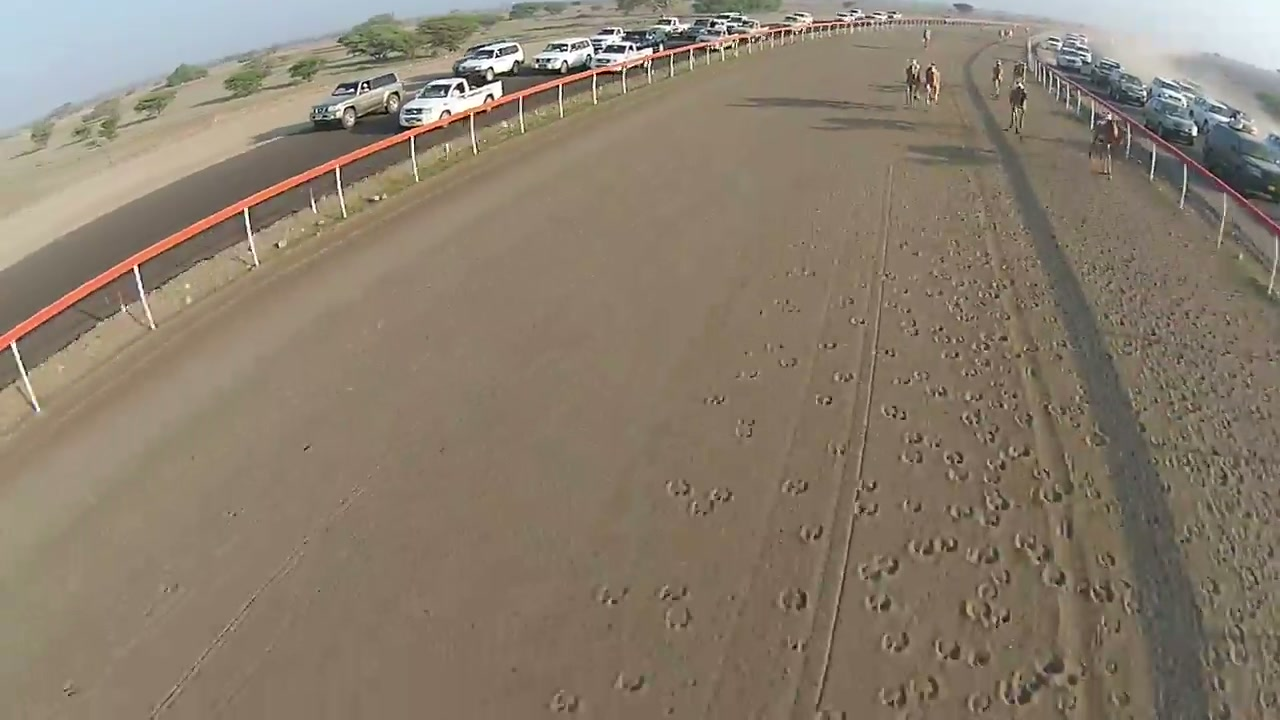animal_footprint: (824, 189, 1088, 716), (972, 334, 1114, 604), (998, 671, 1046, 706), (682, 487, 733, 516), (962, 599, 1011, 629), (1013, 532, 1053, 565), (907, 536, 957, 559), (857, 555, 900, 581), (975, 570, 1008, 600), (909, 674, 941, 703), (548, 690, 581, 713), (665, 478, 695, 503), (777, 588, 808, 611), (1041, 563, 1069, 588), (878, 684, 907, 708), (1051, 686, 1077, 712), (934, 638, 962, 662), (965, 545, 1000, 564), (664, 605, 691, 629), (984, 487, 1011, 511), (1039, 653, 1066, 677), (596, 585, 628, 605), (615, 671, 645, 692), (882, 631, 910, 653), (1037, 483, 1067, 503), (656, 584, 688, 602), (864, 593, 893, 612), (965, 693, 992, 713), (798, 523, 824, 543), (976, 509, 1002, 529), (965, 648, 991, 668), (781, 477, 808, 496), (1003, 443, 1033, 460), (976, 508, 1001, 528), (687, 498, 713, 517), (666, 478, 692, 497), (943, 467, 971, 484), (853, 499, 879, 517), (961, 409, 984, 428), (947, 504, 974, 520), (935, 535, 959, 552), (706, 488, 733, 503), (880, 405, 907, 420), (735, 418, 754, 439), (900, 447, 923, 464), (813, 709, 851, 719), (970, 337, 992, 354), (785, 635, 807, 652), (926, 383, 949, 399), (985, 456, 1007, 472), (775, 299, 800, 313), (900, 318, 919, 336), (1095, 551, 1115, 568), (1087, 431, 1108, 447), (943, 450, 964, 466), (62, 680, 80, 698), (785, 267, 816, 277), (901, 499, 923, 513), (827, 442, 848, 456), (835, 295, 857, 308), (962, 391, 983, 404), (923, 435, 942, 449), (833, 371, 855, 383), (903, 431, 923, 444), (763, 342, 786, 353), (788, 240, 816, 249), (735, 370, 760, 380), (778, 356, 798, 368), (704, 394, 725, 405), (817, 341, 839, 351), (910, 370, 930, 381), (815, 394, 833, 406), (961, 367, 981, 377), (893, 375, 913, 385), (942, 350, 961, 360), (848, 316, 866, 326), (880, 347, 897, 357)
